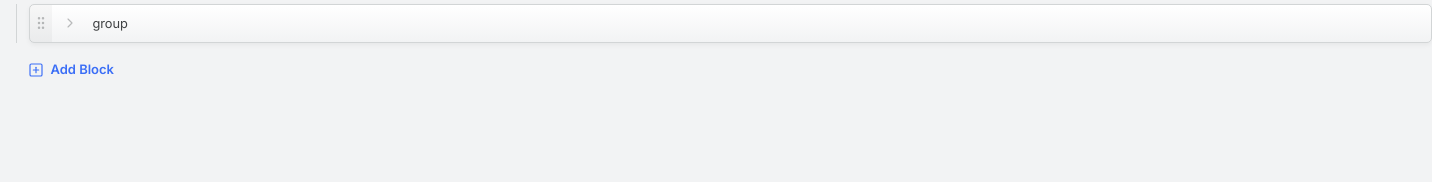
Test: BlockList › the chevron collapses and expands a block's nested blocks without opening its Fields tab
Click the button named "Expand": (70, 23) [56,9,84,37]
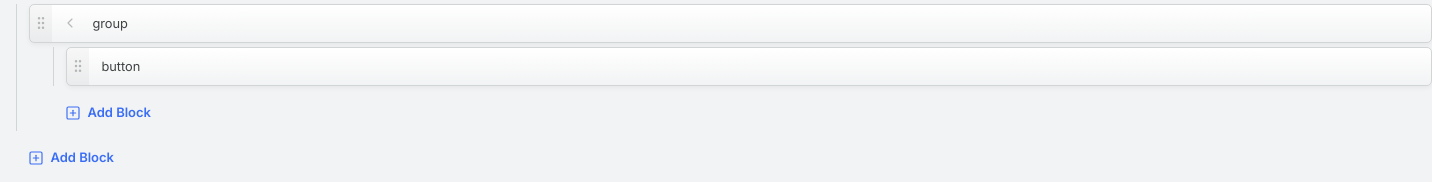
Result: the button with aria-label "Edit button" is shown at [66,47,1431,86]
